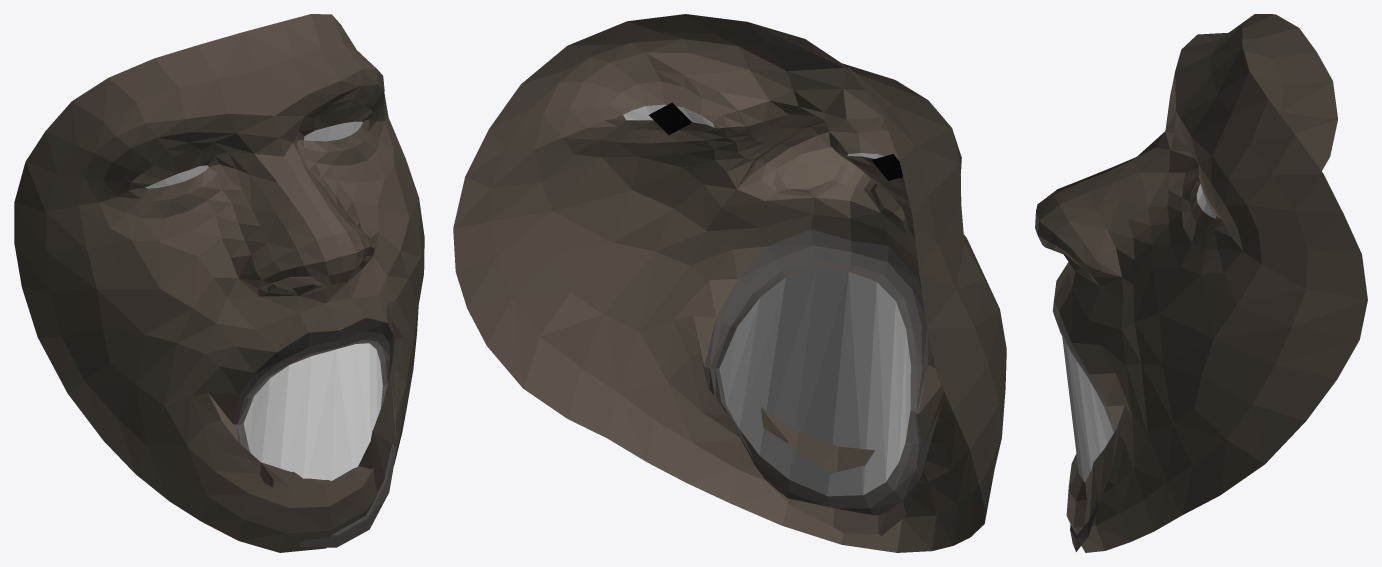
File: injured.obj
3 views of the same model, side by side, from view 1: azimuth 30°, elevation 25°; view 2: azimuth 150°, elevation 25°; view 3: azimuth 270°, elevation 25° (orthographic). The views are drawn at different scales.
Visible parts, largest first — view 1: face_model_with_iris; view 2: face_model_with_iris; view 3: face_model_with_iris.
Part boxes in pixels (box(x1,y1,x2,y2)): face_model_with_iris: box(14, 14, 424, 552); face_model_with_iris: box(453, 14, 1006, 552); face_model_with_iris: box(1035, 14, 1367, 552).
Size of the model in its own units: 0.6347 by 0.7613 by 0.4685.
